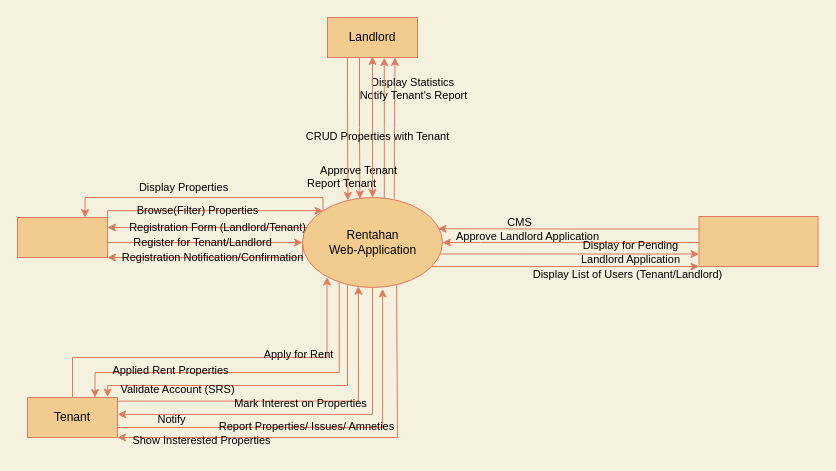
This 836x471 diagram has some shape labels left out. The shapes that lost their labels are listed below. From the top down, each one's box as (x1, y1, x2, y2) in pixels, then its label:
(16, 216, 108, 258): User
(698, 216, 818, 266): Admin
